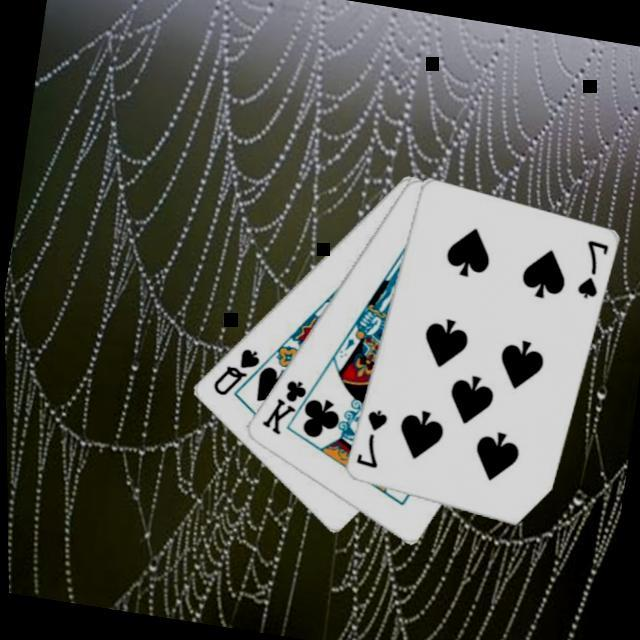7S: (572, 236, 614, 304), (351, 404, 392, 472)
KC: (256, 372, 321, 442)
QS: (209, 341, 266, 404)
